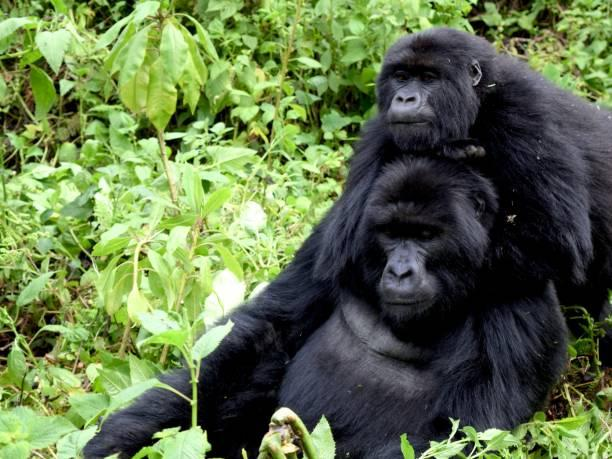goriile_montagne: (103, 164, 609, 459), (321, 0, 612, 206)
